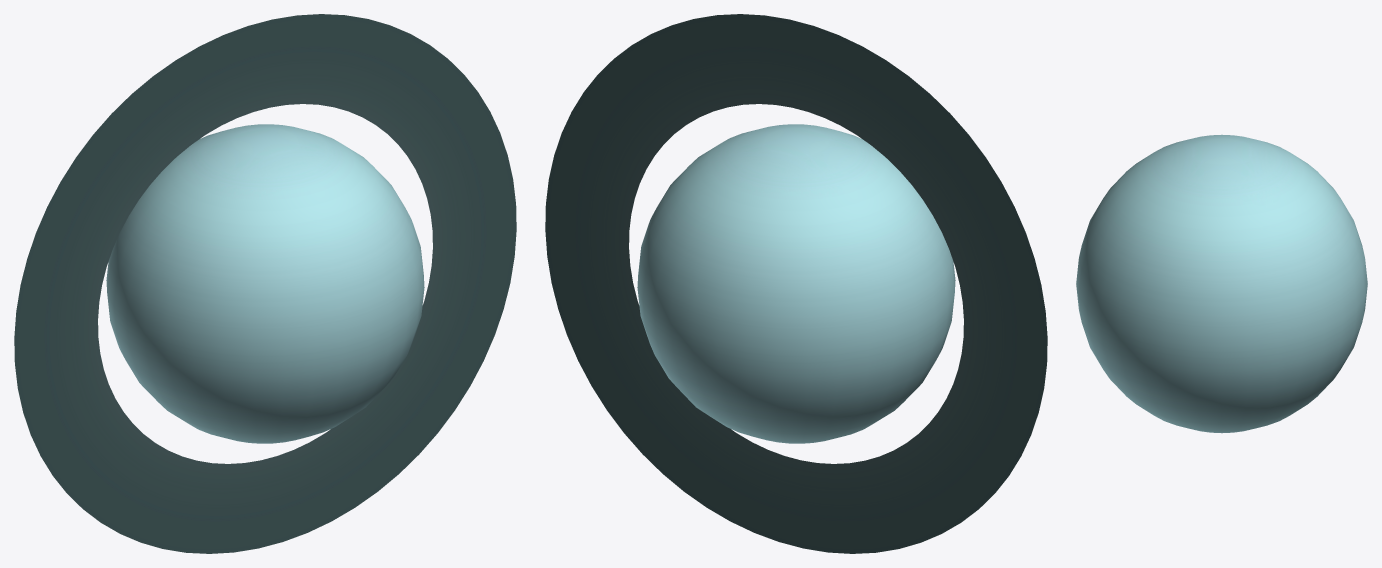
Rendered from Uranus.fbx.
The picture shows the model from 3 angles, left to right: view 1: azimuth 30°, elevation 25°; view 2: azimuth 150°, elevation 25°; view 3: azimuth 270°, elevation 25°; orthographic projection. The views are drawn at different scales.
Parts seen in each view (by area): view 1: Uranus; view 2: Uranus; view 3: Uranus.
Boxes of the visible parts, x1,y1,x2,y2 form: Uranus: [14, 14, 516, 553]; Uranus: [545, 14, 1047, 553]; Uranus: [1076, 134, 1367, 433].
Size of the model in its own units: 104 by 104 by 56.13.
